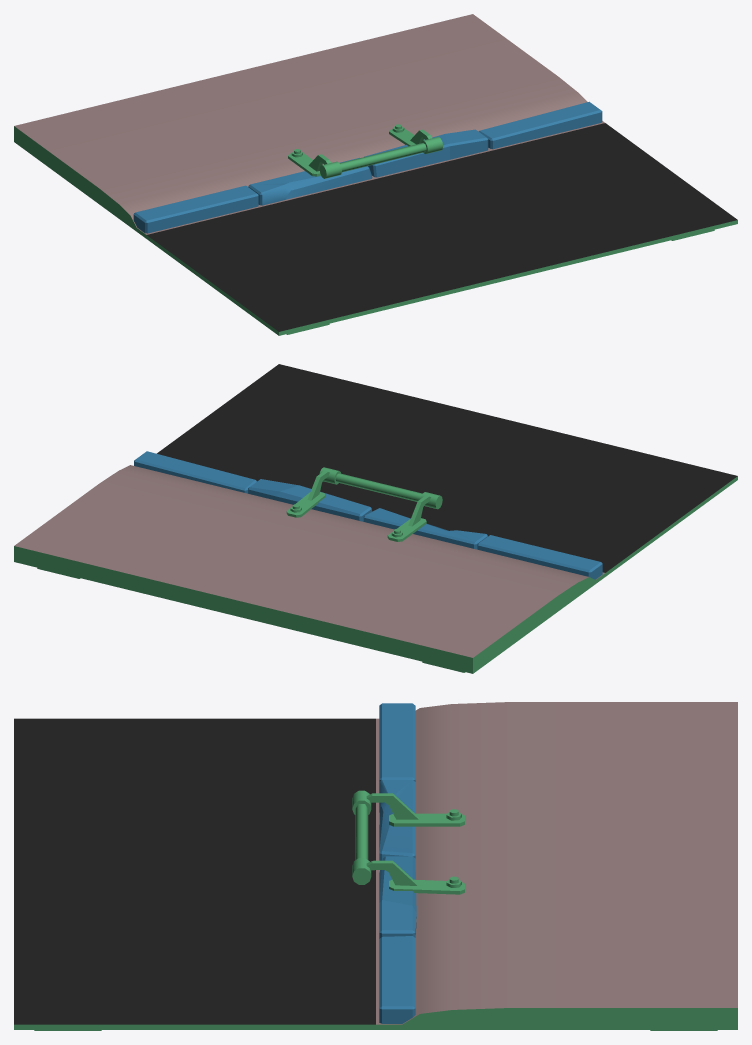
The model's file is sidewalk dir lod0.FBX.
3 views of the same model, one above another, from view 1: azimuth 30°, elevation 25°; view 2: azimuth 150°, elevation 25°; view 3: azimuth 270°, elevation 25° (orthographic). The views are drawn at different scales.
Parts seen in each view (by area): view 1: Group001; view 2: Group001; view 3: Group001.
Part boxes in pixels (x1,y1,x2,y2): Group001: [14, 14, 737, 335]; Group001: [14, 364, 737, 673]; Group001: [14, 702, 737, 1030].
Size of the model in its own units: 3 by 0.3401 by 3.
